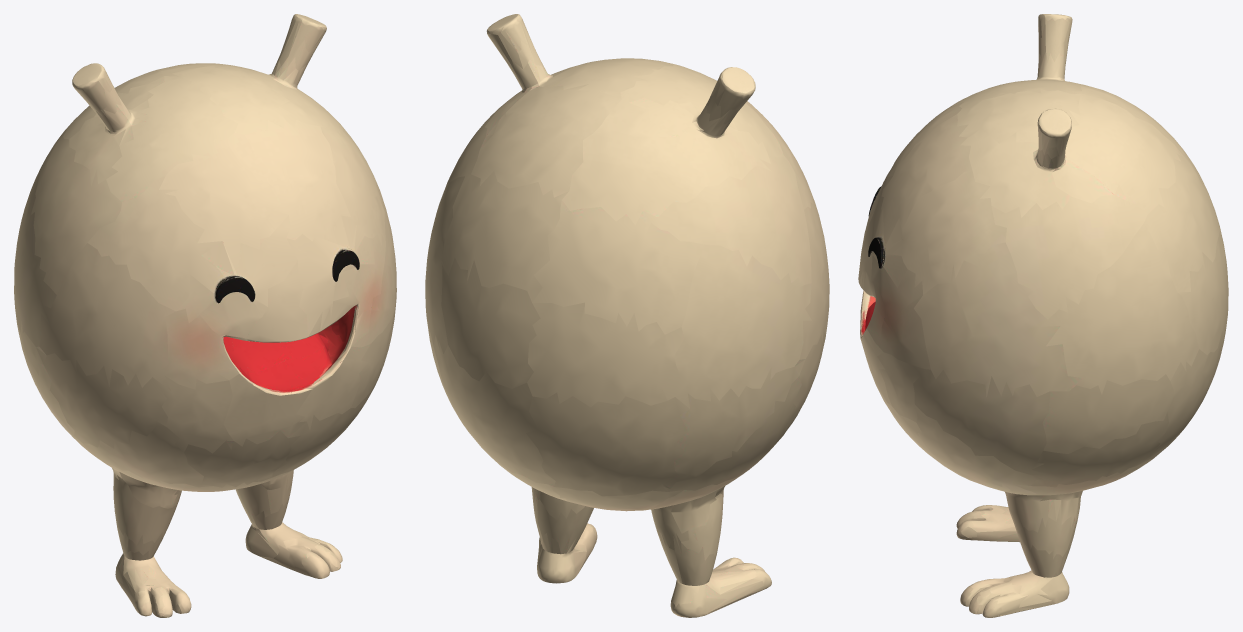
Rendered from skill-communication.glb.
The picture shows the model from 3 angles, left to right: view 1: azimuth 30°, elevation 25°; view 2: azimuth 150°, elevation 25°; view 3: azimuth 270°, elevation 25°; orthographic projection. The views are drawn at different scales.
Size of the model in its own units: 1.26 by 1.9 by 1.26.
Materials: 1 (1 with a texture image).
